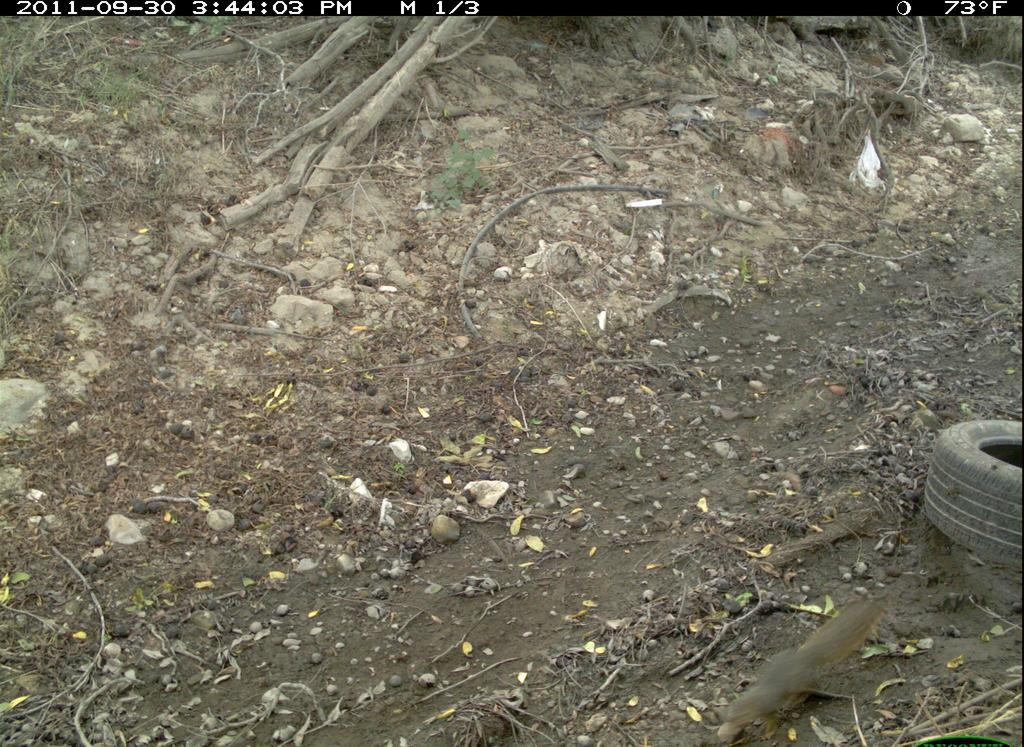squirrel: (705, 588, 900, 747)
